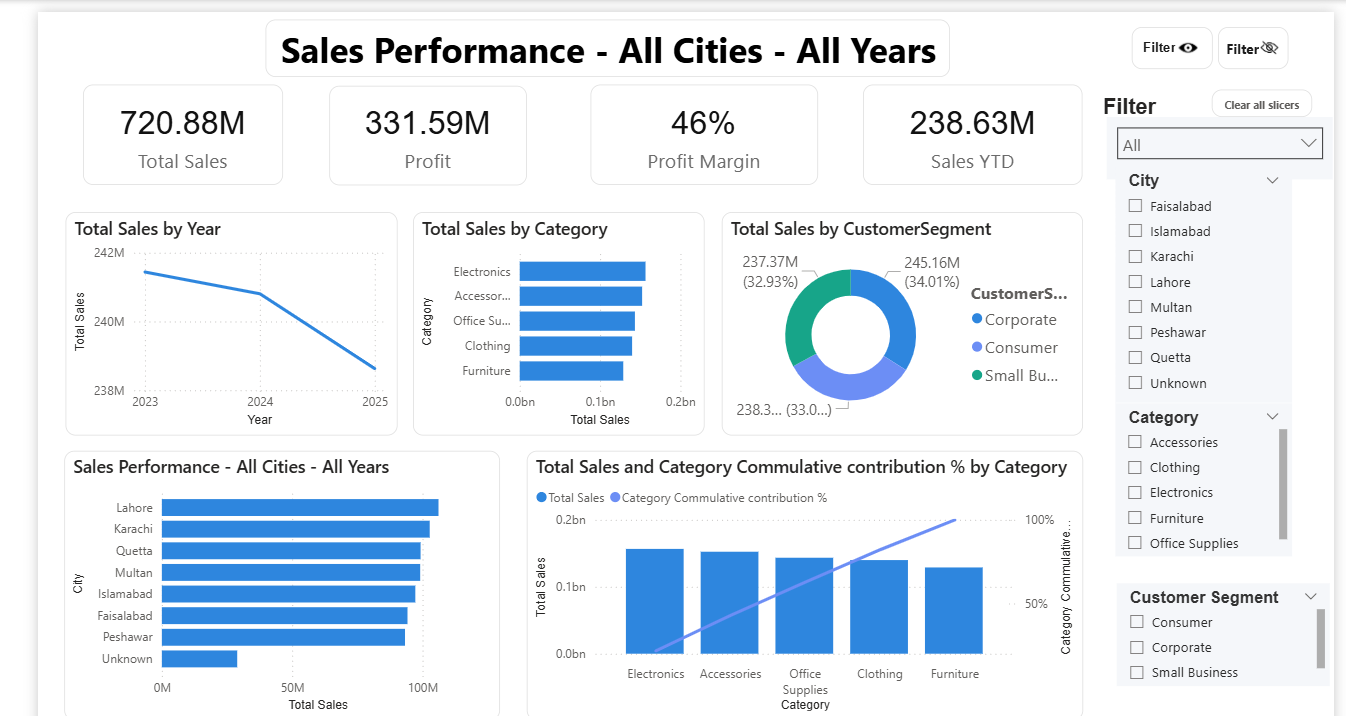

This screenshot's page, from the dashboard's own definition file:
{"tool":"powerbi","page":{"name":"Executive Sales Dashboard","canvas":[1280,720],"ordinal":2},"visuals":[{"type":"card","fields":{"Values":["Measures (2).Total Sales"]},"box":[44.2,71.2,197.5,99.4],"z":0},{"type":"textbox","box":[1041.3,76,74.5,42.1],"z":0,"group":"g1"},{"type":"card","fields":{"Values":["Measures (2).Profit"]},"box":[287.1,72.4,195.1,98.2],"z":1000},{"type":"slicer","fields":{"Values":["DimDate.Year","DimDate.MonthName"]},"box":[1055.9,103.7,223.4,61.9],"z":1000,"group":"g1"},{"type":"card","fields":{"Values":["Measures (2).Profit Margin"]},"box":[546,71.2,224.5,99.4],"z":2000},{"type":"slicer","fields":{"Values":["DimCustomers.City"]},"box":[1065.2,152.4,174.2,233.1],"z":2000,"group":"g1"},{"type":"card","fields":{"Values":["Measures (2).Sales YTD"]},"box":[814.7,71.2,217.2,99.4],"z":3000},{"type":"slicer","fields":{"Values":["DimCustomers.CustomerSegment"]},"box":[1066.2,564,210.7,101.3],"z":3000,"group":"g1"},{"type":"lineChart","fields":{"Category":["DimDate.Year"],"Y":["Measures (2).Total Sales"]},"box":[27,197.5,327.6,220.9],"z":4000},{"type":"slicer","fields":{"Values":["DimProducts.Category"]},"box":[1065.2,385.5,174.2,151.5],"z":4000,"group":"g1"},{"type":"clusteredBarChart","fields":{"Category":["DimProducts.Category"],"Y":["Measures (2).Total Sales"]},"box":[370.6,197.5,288.3,220.9],"z":5000},{"type":"donutChart","fields":{"Category":["DimCustomers.CustomerSegment"],"Y":["Measures (2).Total Sales"]},"box":[674.9,197.5,357.1,220.9],"z":6000},{"type":"clusteredBarChart","fields":{"Category":["DimCustomers.City"],"Y":["Measures (2).Total Sales"]},"box":[26.4,433.3,430.6,266.7],"z":7000},{"type":"lineClusteredColumnComboChart","fields":{"Category":["DimProducts.Category"],"Y":["Measures (2).Total Sales"],"Y2":["Measures (2).Commulative contribution % Category"]},"box":[482.2,433.1,549.7,266.3],"z":8000},{"type":"textbox","box":[224.5,7.4,676.1,56.4],"z":9000},{"type":"group","id":"g1","title":"Group 1","box":[1041.3,76,238.1,589.3],"z":10000},{"type":"actionButton","box":[1080,14.7,80,41.3],"z":11000},{"type":"actionButton","box":[1165.3,14.7,69.3,41.3],"z":12000},{"type":"actionButton","box":[1159.5,76.1,99.4,27],"z":13000}]}

Visuals, with their boxes on the page's 1280x720 design canvas (x1, y1, x2, y2). These are canvas units, not pixel positions in the 1346x716 screenshot, which may show the page scaled, cropped or inside an application window:
card - Measures (2).Total Sales: [x1=44, y1=71, x2=242, y2=171]
textbox: [x1=1041, y1=76, x2=1116, y2=118]
card - Measures (2).Profit: [x1=287, y1=72, x2=482, y2=171]
slicer - DimDate.Year x DimDate.MonthName: [x1=1056, y1=104, x2=1279, y2=166]
card - Measures (2).Profit Margin: [x1=546, y1=71, x2=770, y2=171]
slicer - DimCustomers.City: [x1=1065, y1=152, x2=1239, y2=386]
card - Measures (2).Sales YTD: [x1=815, y1=71, x2=1032, y2=171]
slicer - DimCustomers.CustomerSegment: [x1=1066, y1=564, x2=1277, y2=665]
lineChart - DimDate.Year x Measures (2).Total Sales: [x1=27, y1=198, x2=355, y2=418]
slicer - DimProducts.Category: [x1=1065, y1=386, x2=1239, y2=537]
clusteredBarChart - DimProducts.Category x Measures (2).Total Sales: [x1=371, y1=198, x2=659, y2=418]
donutChart - DimCustomers.CustomerSegment x Measures (2).Total Sales: [x1=675, y1=198, x2=1032, y2=418]
clusteredBarChart - DimCustomers.City x Measures (2).Total Sales: [x1=26, y1=433, x2=457, y2=700]
lineClusteredColumnComboChart - DimProducts.Category x Measures (2).Total Sales: [x1=482, y1=433, x2=1032, y2=699]
textbox: [x1=224, y1=7, x2=901, y2=64]
"Group 1" group: [x1=1041, y1=76, x2=1279, y2=665]
actionButton: [x1=1080, y1=15, x2=1160, y2=56]
actionButton: [x1=1165, y1=15, x2=1235, y2=56]
actionButton: [x1=1160, y1=76, x2=1259, y2=103]
